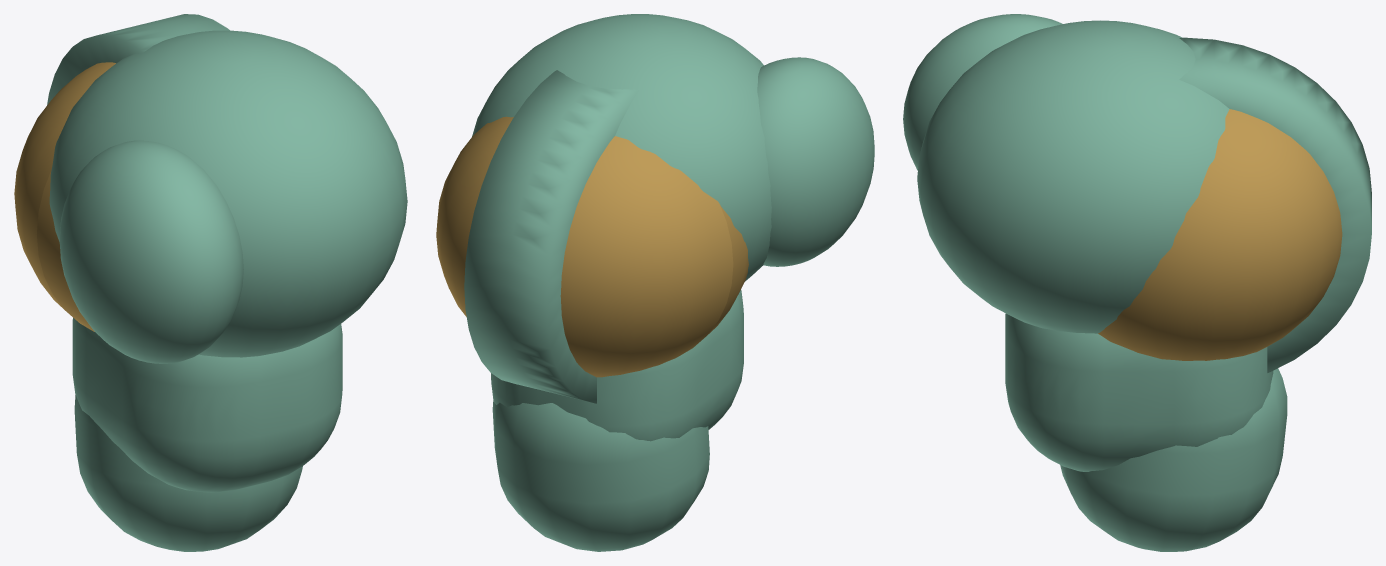
The model's file is brute-arm-0.glb.
The picture shows the model from 3 angles, left to right: view 1: azimuth 30°, elevation 25°; view 2: azimuth 150°, elevation 25°; view 3: azimuth 270°, elevation 25°; orthographic projection. The views are drawn at different scales.
Visible parts, largest first — view 1: hand_clay, lower_clay, upper_clay, upper_hardware; view 2: upper_clay, hand_clay, upper_hardware, lower_clay; view 3: hand_clay, upper_clay, upper_hardware, lower_clay.
Boxes of the visible parts, left/top/right/bottom form: hand_clay: left=49, top=30, right=407, bottom=363; lower_clay: left=72, top=318, right=342, bottom=492; upper_clay: left=47, top=14, right=302, bottom=551; upper_hardware: left=14, top=62, right=115, bottom=331; upper_clay: left=464, top=70, right=709, bottom=551; hand_clay: left=472, top=14, right=874, bottom=281; upper_hardware: left=436, top=116, right=748, bottom=377; lower_clay: left=491, top=290, right=743, bottom=441; hand_clay: left=903, top=14, right=1229, bottom=333; upper_clay: left=1060, top=37, right=1371, bottom=551; upper_hardware: left=1098, top=109, right=1342, bottom=360; lower_clay: left=1005, top=313, right=1273, bottom=471.
Size of the model in its own units: 0.517 by 0.7392 by 0.6251.
